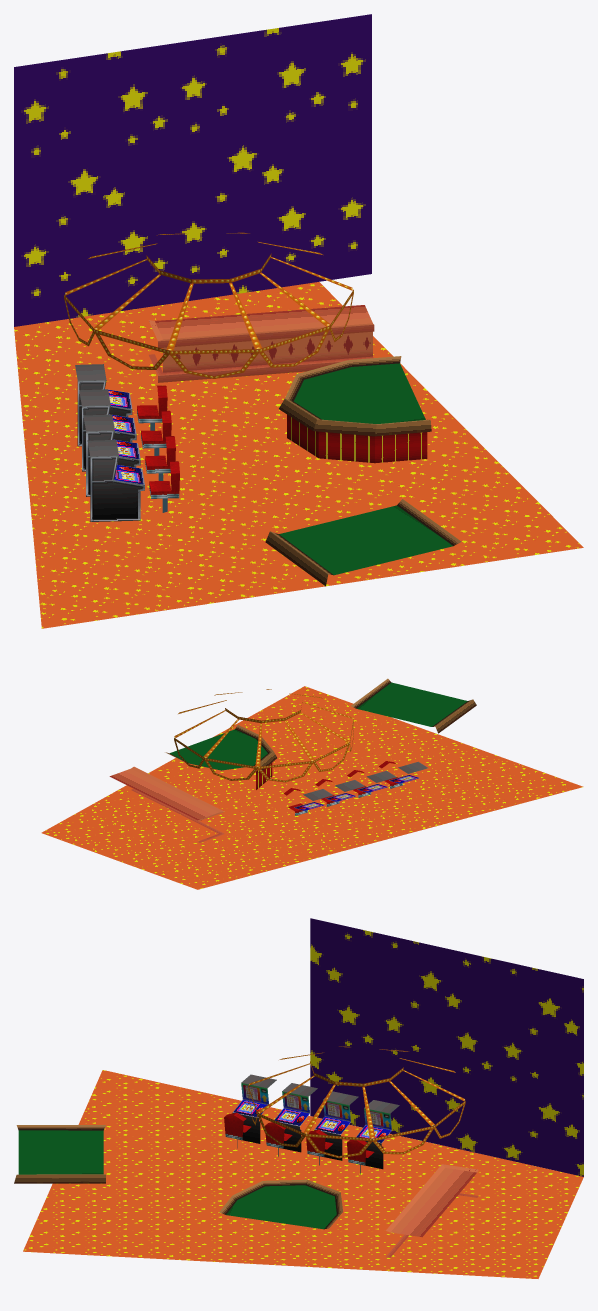
Rendered from Casino.gltf.
3 renders of one model, top to bottom at view 1: azimuth 30°, elevation 25°; view 2: azimuth 150°, elevation 25°; view 3: azimuth 270°, elevation 25°, orthographic. The views are drawn at different scales.
Parts seen in each view (by area): view 1: Casino-_material9.001, Casino-_material1.001, Casino-_material8.001, Casino-_material2.001, Casino-_material6.001, Casino-_material4.001, Casino-_material7.001, Casino-_material5.001; view 2: Casino-_material1.001, Casino-_material8.001, Casino-_material4.001, Casino-_material2.001, Casino-_material6.001, Casino-_material7.001, Casino-_material5.001; view 3: Casino-_material1.001, Casino-_material9.001, Casino-_material8.001, Casino-_material4.001, Casino-_material5.001, Casino-_material2.001, Casino-_material6.001, Casino-_material7.001.
Boxes of the visible parts, left/top/right/bottom form: Casino-_material9.001: left=14, top=14, right=371, bottom=326; Casino-_material1.001: left=14, top=282, right=583, bottom=628; Casino-_material8.001: left=265, top=356, right=461, bottom=586; Casino-_material2.001: left=148, top=305, right=374, bottom=382; Casino-_material6.001: left=75, top=364, right=144, bottom=521; Casino-_material4.001: left=64, top=232, right=353, bottom=378; Casino-_material7.001: left=137, top=385, right=179, bottom=512; Casino-_material5.001: left=105, top=389, right=144, bottom=484; Casino-_material1.001: left=41, top=686, right=583, bottom=889; Casino-_material8.001: left=165, top=678, right=476, bottom=789; Casino-_material4.001: left=174, top=689, right=353, bottom=782; Casino-_material2.001: left=109, top=766, right=224, bottom=842; Casino-_material6.001: left=303, top=761, right=428, bottom=800; Casino-_material7.001: left=283, top=761, right=402, bottom=815; Casino-_material5.001: left=294, top=775, right=419, bottom=810; Casino-_material1.001: left=23, top=1070, right=583, bottom=1278; Casino-_material9.001: left=310, top=918, right=583, bottom=1176; Casino-_material8.001: left=14, top=1125, right=342, bottom=1229; Casino-_material4.001: left=248, top=1046, right=465, bottom=1158; Casino-_material5.001: left=233, top=1083, right=391, bottom=1143; Casino-_material2.001: left=386, top=1164, right=478, bottom=1257; Casino-_material6.001: left=232, top=1074, right=399, bottom=1169; Casino-_material7.001: left=224, top=1112, right=374, bottom=1174.
Size of what is drawn, in the model's own units: 0.1106 by 0.0449 by 0.1173.
8 materials, 8 textured.
